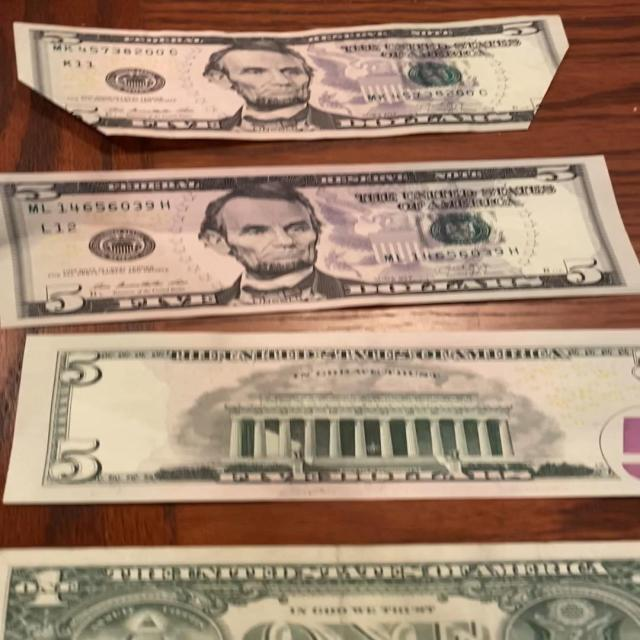1-Back: (0, 540, 640, 640)
5-Back: (0, 323, 640, 515)
5-Front: (0, 149, 640, 338), (8, 8, 593, 150)
